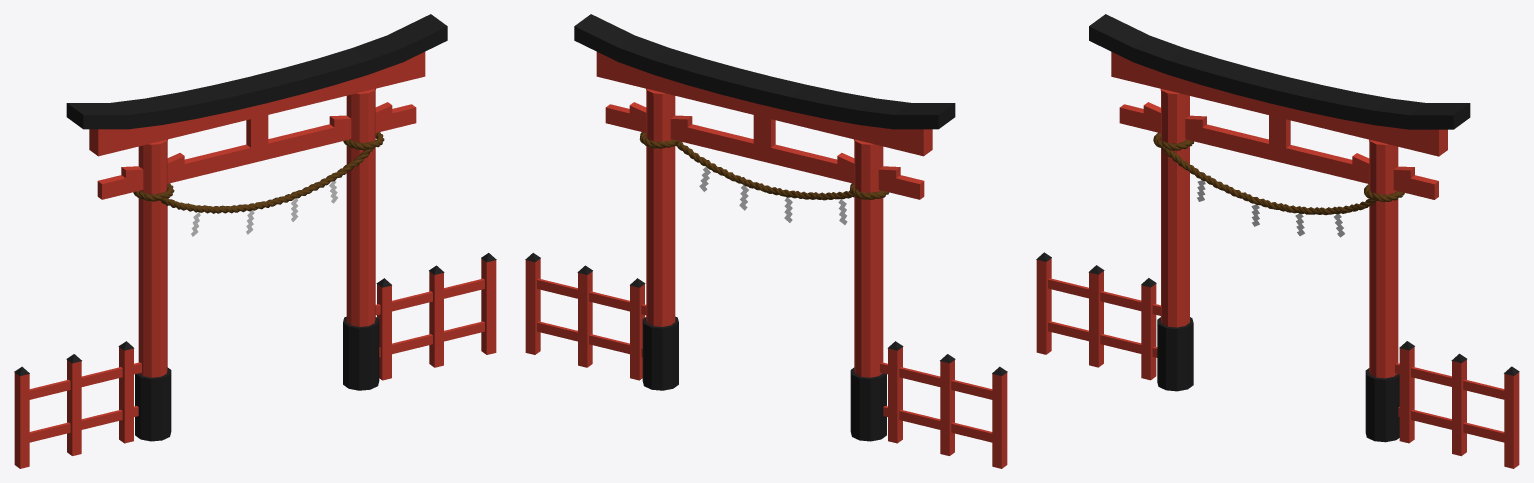
Rendered from ShrineGateFenceTogether.fbx.
The picture shows the model from 3 angles, left to right: view 1: azimuth 30°, elevation 25°; view 2: azimuth 150°, elevation 25°; view 3: azimuth 330°, elevation 25°; orthographic projection.
Parts seen in each view (by area): view 1: CombinedGate, SrhineFence, SrhineFence.001, Rope, WhitePaper; view 2: CombinedGate, SrhineFence, SrhineFence.001, Rope, WhitePaper; view 3: CombinedGate, SrhineFence, SrhineFence.001, Rope, WhitePaper.
Boxes of the visible parts, <box> form: CombinedGate: <box>66,14,447,441</box>; SrhineFence: <box>14,341,141,468</box>; SrhineFence.001: <box>375,253,496,380</box>; Rope: <box>133,132,384,213</box>; WhitePaper: <box>191,181,338,236</box>; CombinedGate: <box>574,14,955,441</box>; SrhineFence: <box>880,341,1007,468</box>; SrhineFence.001: <box>525,253,646,380</box>; Rope: <box>639,132,889,200</box>; WhitePaper: <box>699,167,847,224</box>; CombinedGate: <box>1089,14,1470,442</box>; SrhineFence: <box>1036,252,1160,380</box>; SrhineFence.001: <box>1395,341,1519,468</box>; Rope: <box>1153,132,1404,215</box>; WhitePaper: <box>1197,180,1344,237</box>.
Bounding box in the file's own units: 1606 × 1107 × 121.
